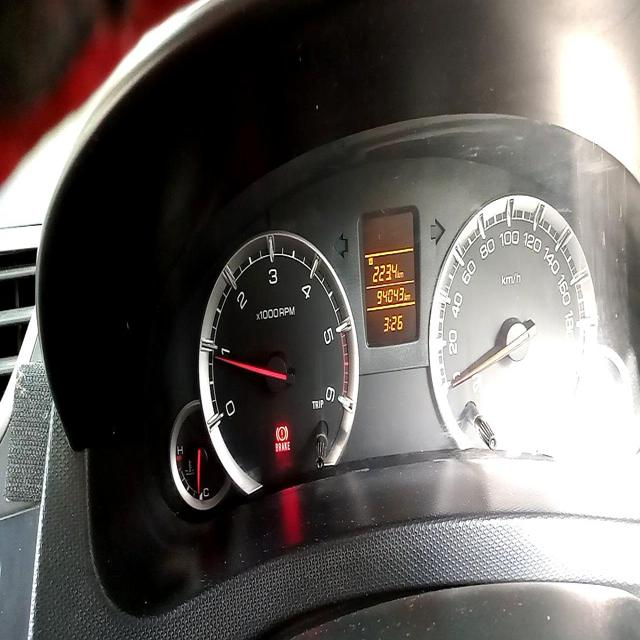odometer: (375, 283, 404, 306)
